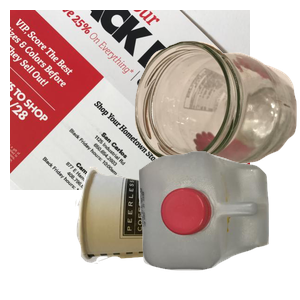glass: (132, 38, 300, 199)
paper: (10, 10, 250, 190)
plastic: (136, 149, 300, 300)
trash: (73, 164, 278, 300)
